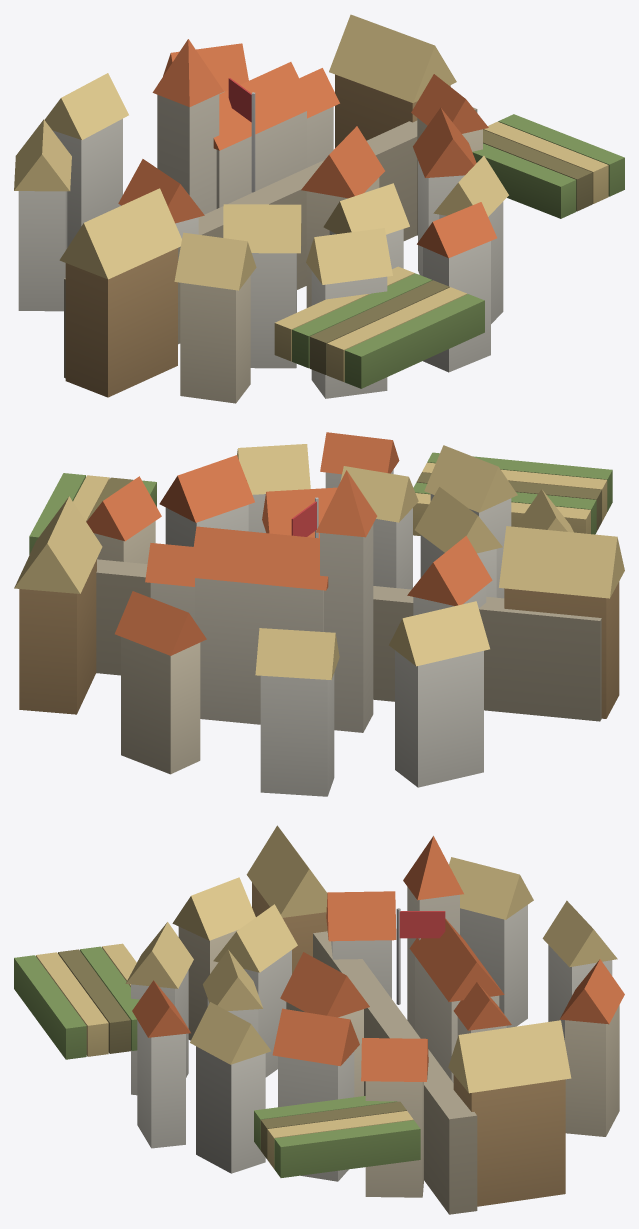
The model's file is village_west_a.glb.
3 renders of one model, top to bottom at view 1: azimuth 30°, elevation 25°; view 2: azimuth 150°, elevation 25°; view 3: azimuth 270°, elevation 25°, orthographic. The views are drawn at different scales.
Parts seen in each view (by area): view 1: village_west_a; view 2: village_west_a; view 3: village_west_a.
Part boxes in pixels (x1,y1,x2,y2): village_west_a: (14,14,624,403); village_west_a: (14,432,624,796); village_west_a: (14,825,624,1214).
Bounding box in the file's own units: 2.1 × 0.9021 × 2.09.
